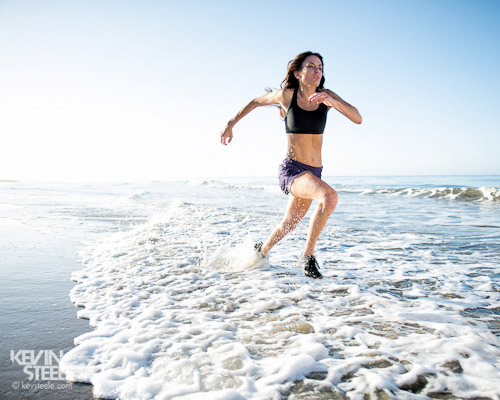Person: (217, 50, 365, 283)
